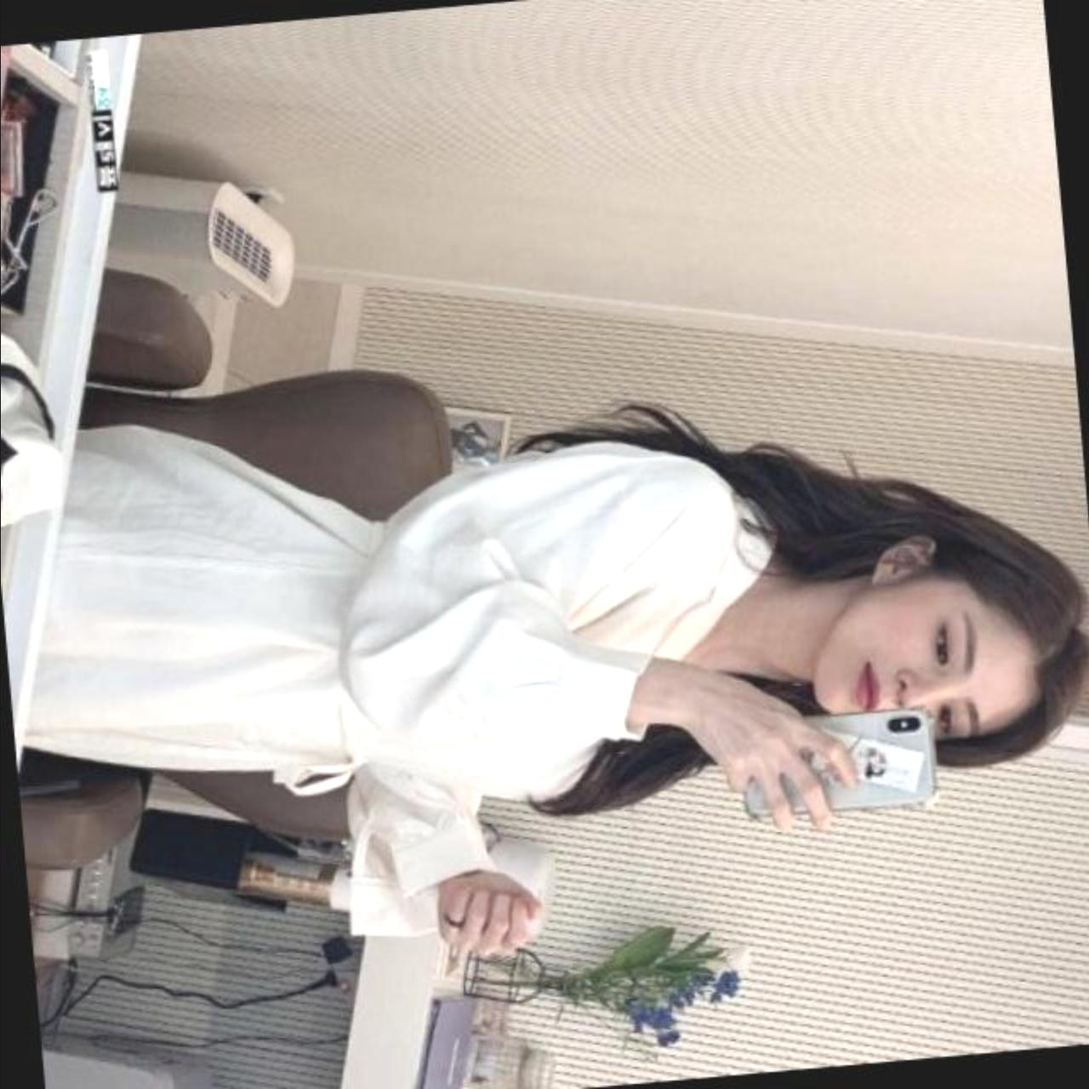phone: (741, 705, 940, 828)
